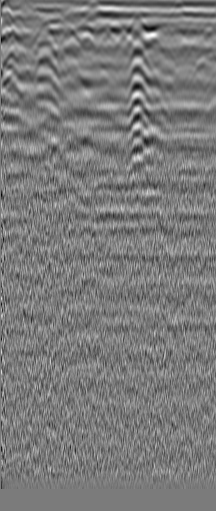오수: (31, 17, 56, 44)
우수: (157, 20, 177, 40)
